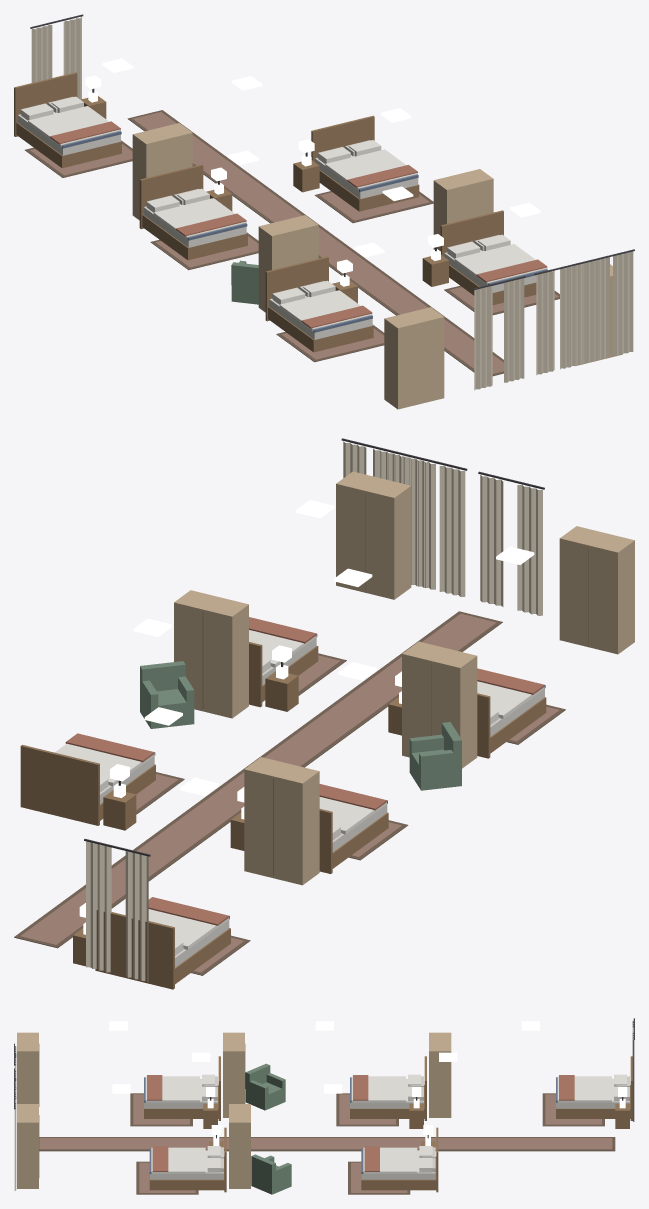
File: fine-s1.glb
3 renders of one model, top to bottom at view 1: azimuth 30°, elevation 25°; view 2: azimuth 150°, elevation 25°; view 3: azimuth 270°, elevation 25°, orthographic. The views are drawn at different scales.
Visible parts, largest first — view 1: soft-s1, dresser.004, bed-frame.003, bed-frame.004, bed-frame.002, bed-frame.000, dresser.002, dresser.003, bed-frame.001, dresser.000, lounge-chair.001, nightstand.000 (+1 smaller); view 2: soft-s1, dresser.002, dresser.004, dresser.001, dresser.000, dresser.003, bed-frame.000, bed-frame.002, lounge-chair.001, lounge-chair.000, bed-frame.003, bed-frame.004 (+3 smaller); view 3: soft-s1, dresser.001, dresser.000, dresser.002, dresser.003, bed-frame.000, bed-frame.001, dresser.004, lounge-chair.001, bed-frame.004, bed-frame.002, bed-frame.003 (+4 smaller).
Boxes of the visible parts, bbox=[...] form: soft-s1: bbox=[21, 14, 634, 390]; dresser.004: bbox=[384, 307, 444, 409]; bed-frame.003: bbox=[139, 164, 247, 260]; bed-frame.004: bbox=[265, 256, 373, 352]; bed-frame.002: bbox=[14, 72, 121, 168]; bed-frame.000: bbox=[311, 115, 419, 211]; dresser.002: bbox=[132, 123, 192, 220]; dresser.003: bbox=[258, 215, 318, 312]; bed-frame.001: bbox=[440, 210, 547, 305]; dresser.000: bbox=[433, 169, 493, 250]; lounge-chair.001: bbox=[231, 260, 258, 304]; nightstand.000: bbox=[293, 154, 319, 192]; soft-s1: bbox=[14, 438, 565, 982]; dresser.002: bbox=[244, 757, 319, 885]; dresser.004: bbox=[559, 526, 634, 654]; dresser.001: bbox=[336, 471, 411, 599]; dresser.000: bbox=[174, 590, 248, 718]; dresser.003: bbox=[402, 641, 477, 768]; bed-frame.000: bbox=[20, 744, 155, 825]; bed-frame.002: bbox=[95, 910, 230, 989]; lounge-chair.001: bbox=[409, 722, 461, 790]; lounge-chair.000: bbox=[140, 661, 194, 728]; bed-frame.003: bbox=[319, 800, 388, 873]; bed-frame.004: bbox=[477, 685, 546, 758]; soft-s1: bbox=[14, 1018, 634, 1194]; dresser.001: bbox=[17, 1104, 39, 1188]; dresser.000: bbox=[229, 1104, 250, 1188]; dresser.002: bbox=[429, 1032, 451, 1117]; dresser.003: bbox=[223, 1032, 245, 1117]; bed-frame.000: bbox=[361, 1127, 438, 1192]; bed-frame.001: bbox=[149, 1127, 226, 1192]; dresser.004: bbox=[17, 1032, 39, 1106]; lounge-chair.001: bbox=[245, 1063, 285, 1110]; bed-frame.004: bbox=[144, 1056, 220, 1120]; bed-frame.002: bbox=[556, 1056, 632, 1120]; bed-frame.003: bbox=[350, 1056, 426, 1120].
Size of the model in its own units: 6.53 by 2.64 by 16.92.
